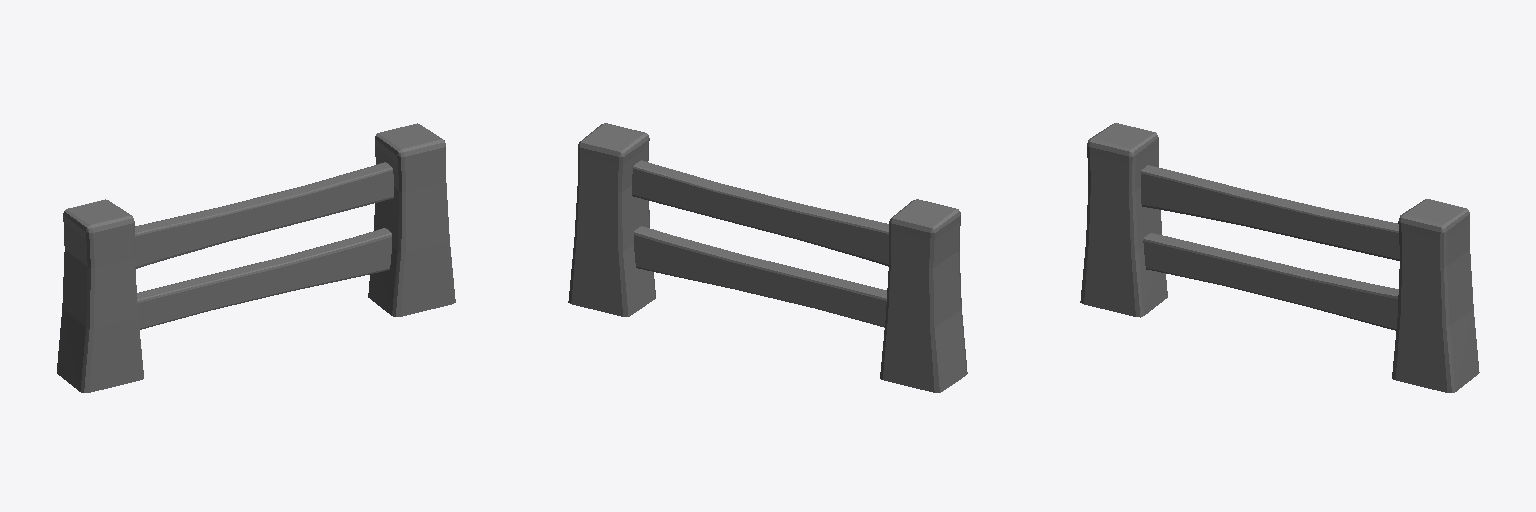
Rendered from langan.obj.
The picture shows the model from 3 angles: view 1: azimuth 30°, elevation 25°; view 2: azimuth 150°, elevation 25°; view 3: azimuth 330°, elevation 25°; orthographic projection.
Visible parts, largest first — view 1: polySurface5; view 2: polySurface5; view 3: polySurface5.
Part boxes in pixels (x1,y1,x2,y2): polySurface5: (57,123,455,392); polySurface5: (568,123,967,392); polySurface5: (1080,123,1479,392).
Bounding box in the file's own units: 12.85 × 5.38 × 1.74.